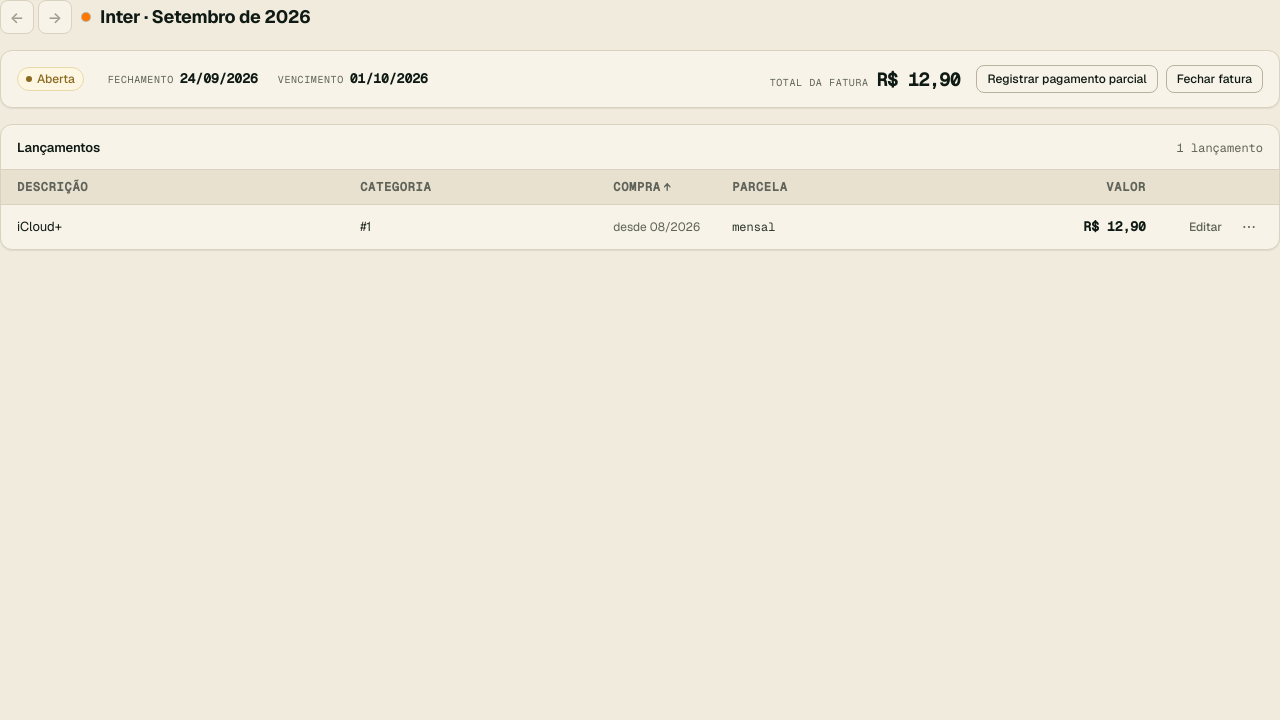
Test: FaturaDetalhe — confirmar a exclusão da despesa › assinatura: o valor por mês
Click the button named "Mais ações".
click(1249, 227)  # box [1235,213,1263,241]
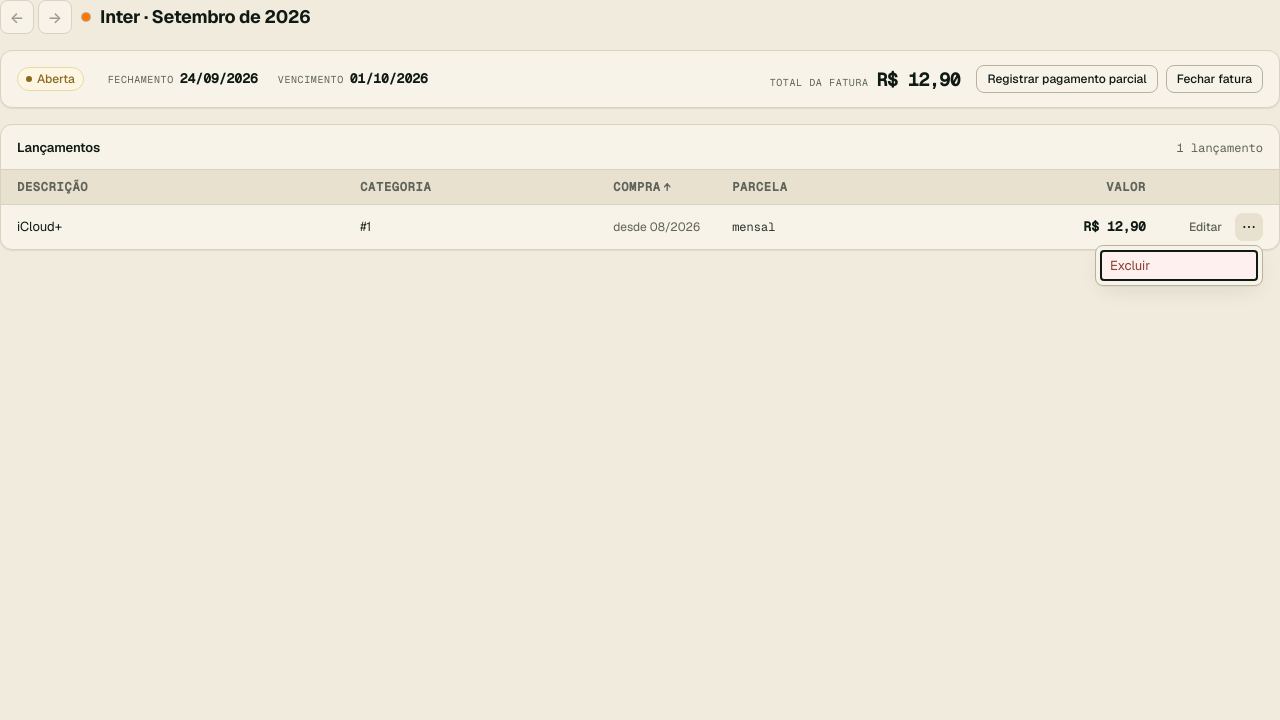
Click the menu item "Excluir".
click(1179, 266)  # box [1100,250,1258,281]
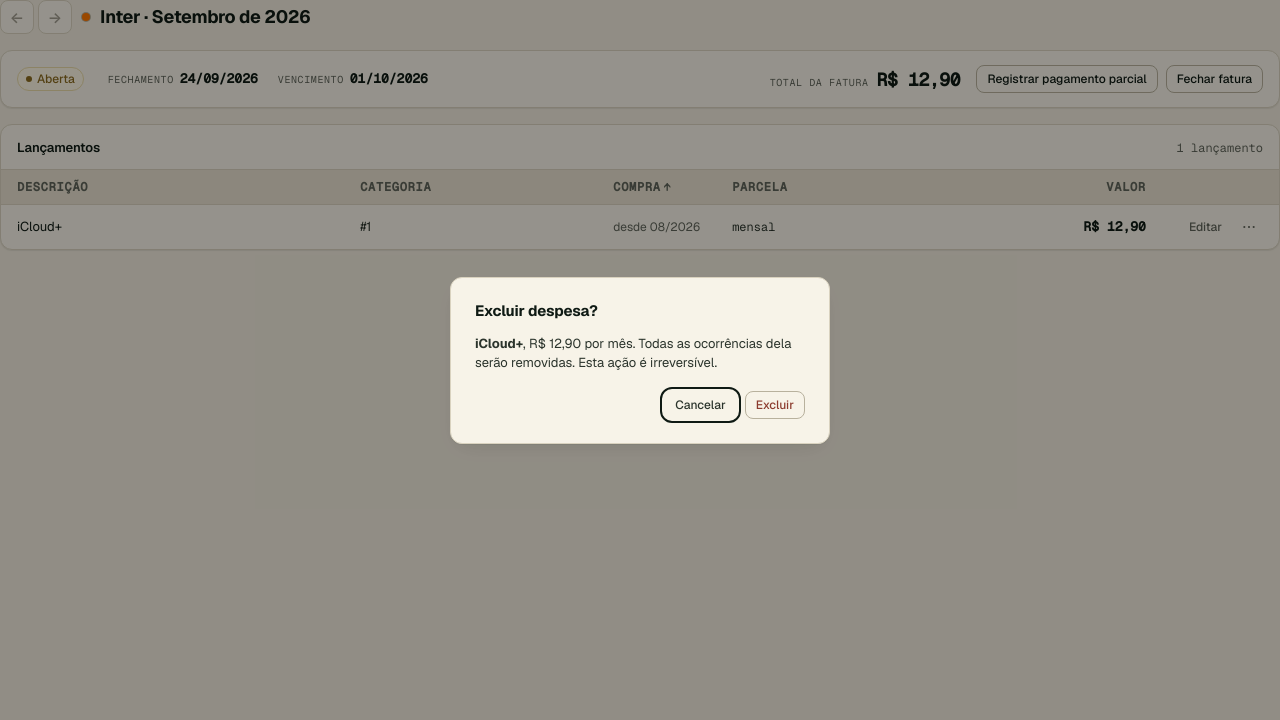
expect the dialog "Excluir despesa?" shows "Todas as ocorrências dela serão removidas.": met, box [475,334,791,371]
